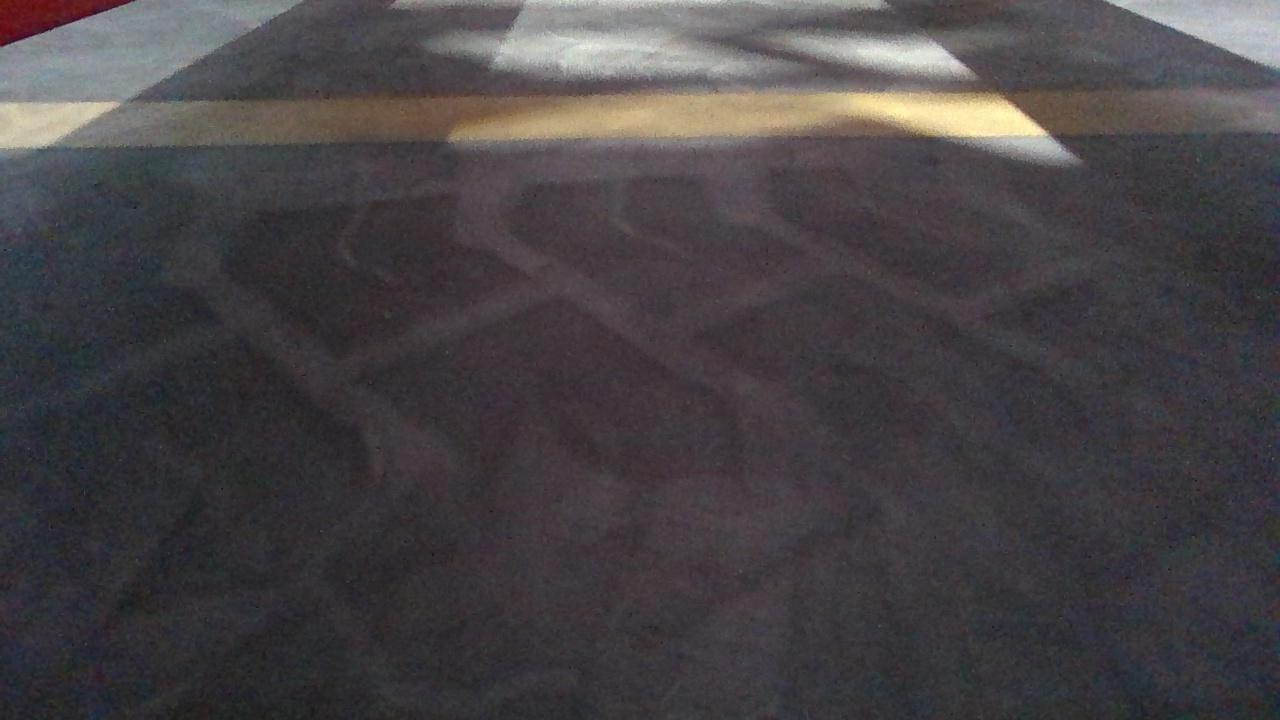yellow_line: (2, 89, 1278, 146)
